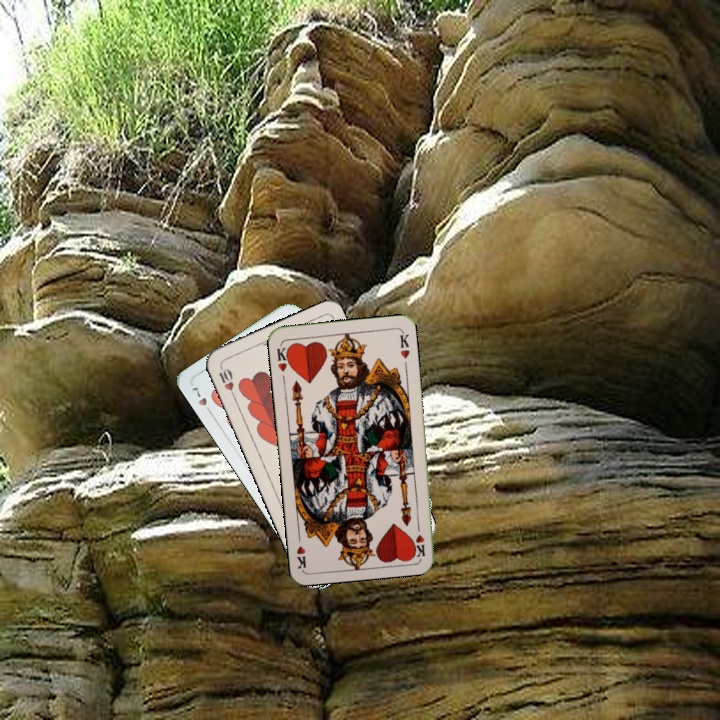H10: (214, 362, 238, 401)
H7: (188, 383, 215, 418)
HK: (273, 341, 293, 374), (411, 517, 427, 558)
